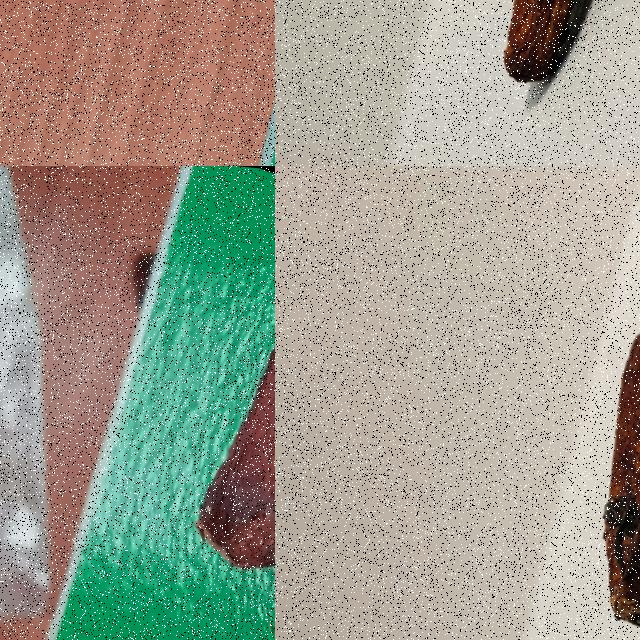Agglomerated_cocoabeans: (191, 0, 274, 165)
Flat_cocoabeans: (487, 204, 639, 639), (125, 214, 274, 639), (432, 0, 639, 165)
